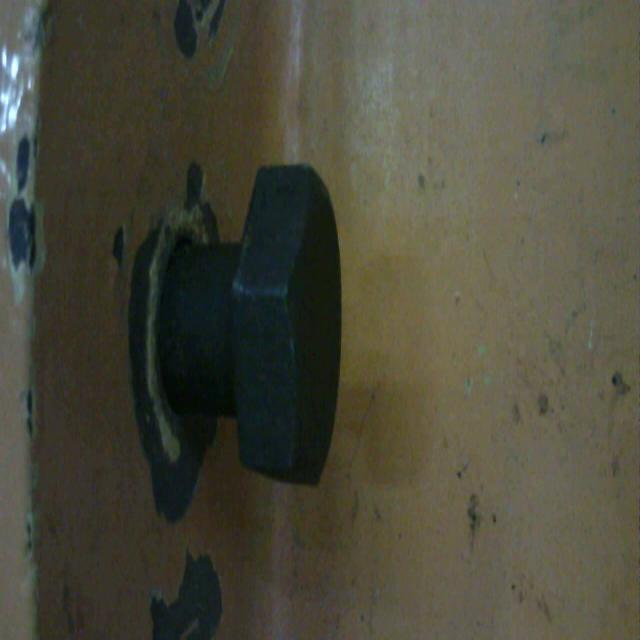Loose bolt: (163, 167, 346, 479)
Rusty bolt: (166, 167, 350, 480)
